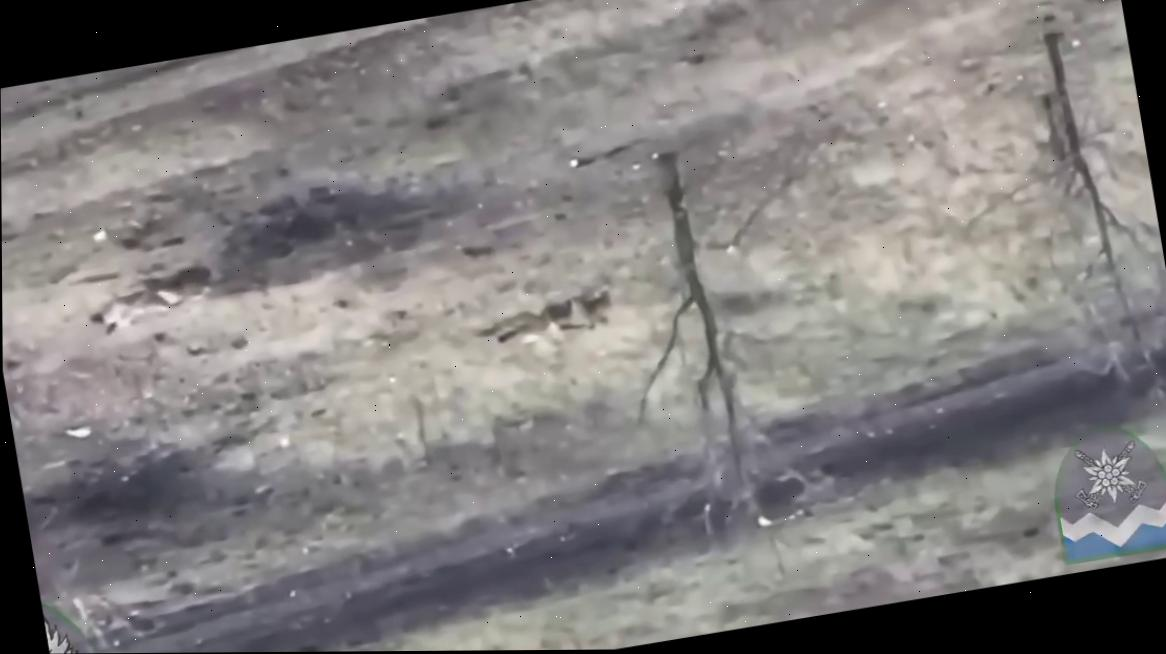person: (83, 265, 219, 339), (469, 291, 615, 353)
